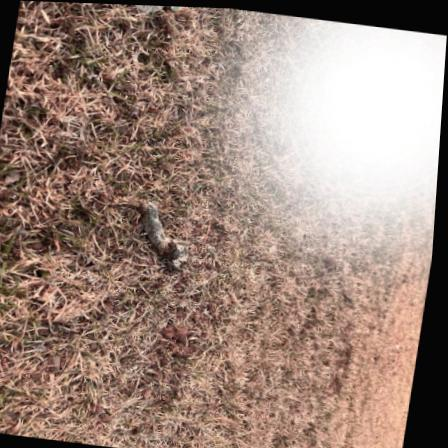dog-poop: (136, 197, 199, 271)
